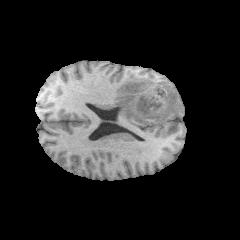glioma: (114, 78, 178, 121)
